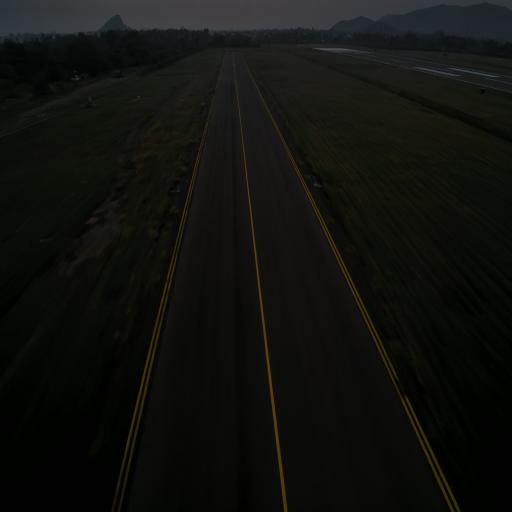on: (177, 184, 182, 192), (313, 178, 318, 185)
